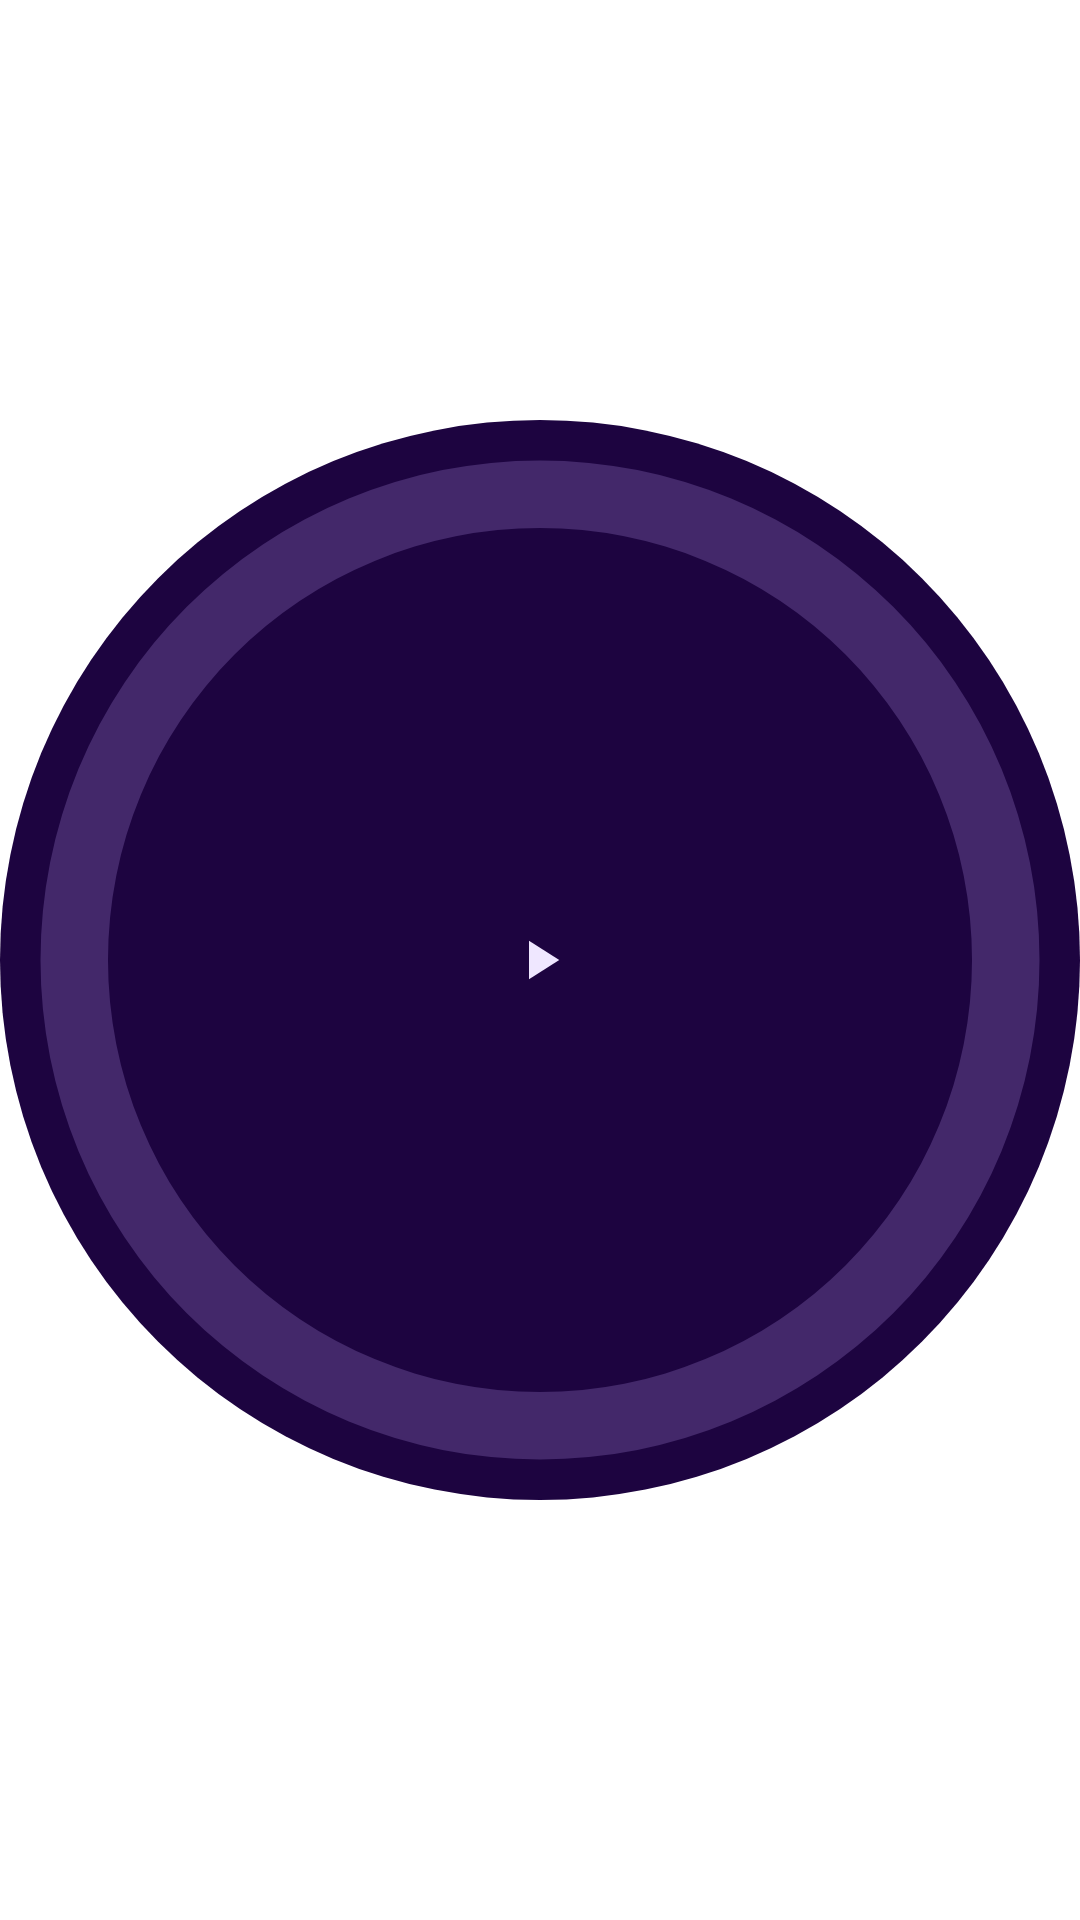

Locate icon controls on the screen. Image size 1080w x 1920h, boxes as (x1,y1,x2,y2).
widget play: (529,941,559,979)
